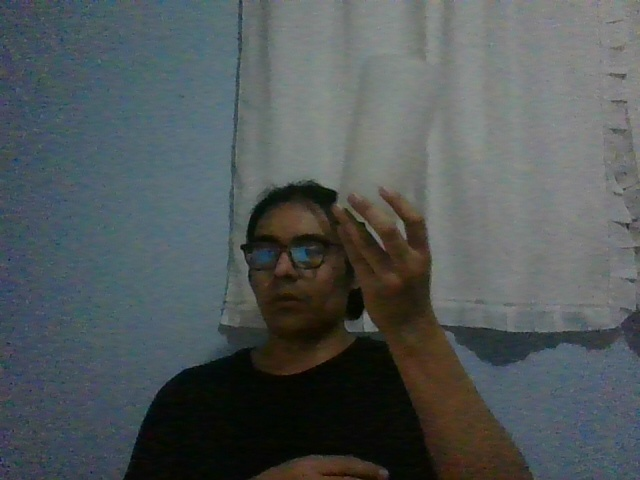vaso: (335, 54, 449, 220)
